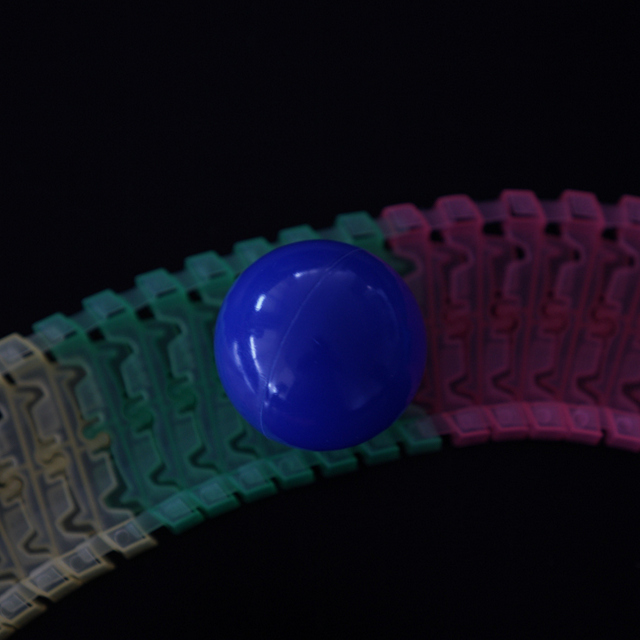Ball: (214, 244, 420, 450)
